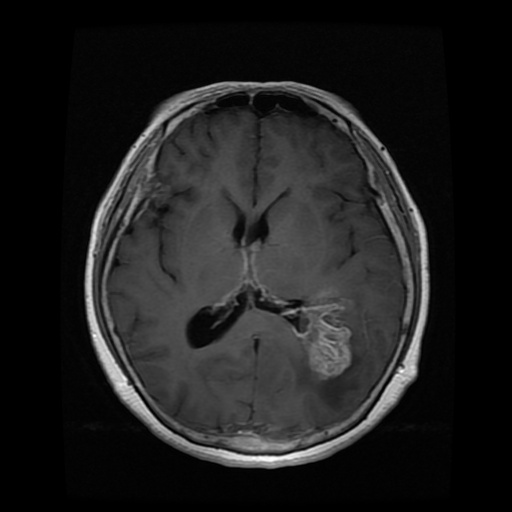glioma: (211, 236, 384, 411)
